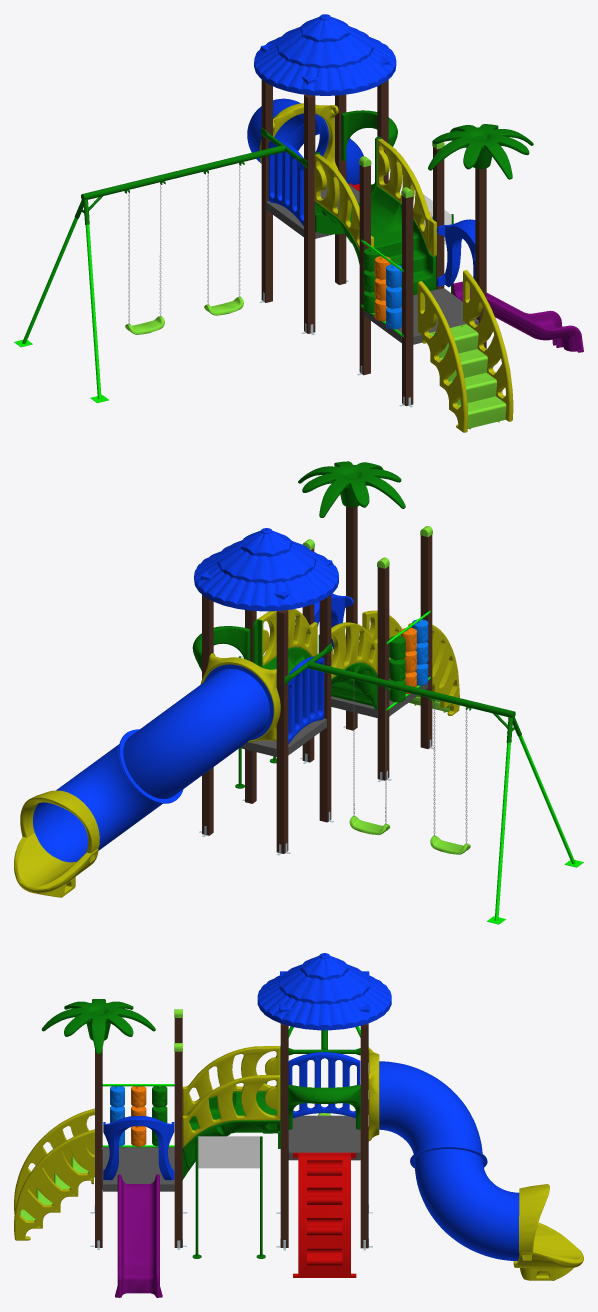
The picture shows the model from 3 angles, top to bottom: view 1: azimuth 30°, elevation 25°; view 2: azimuth 150°, elevation 25°; view 3: azimuth 270°, elevation 25°; orthographic projection. The views are drawn at different scales.
Parts seen in each view (by area): view 1: TOLDO M2, ACESSO M1, LATERAL M2, COQUEIRO M1, LATERAL M2.001, COLUNA MAD PLAST 9 X 9CM.013, JOGO DA VELHA, ESCORREGADOR M5, LATERAL M1.002, COLUNA MAD PLAST 9 X 9CM.018, TRAV BALANCO ACOP M4 PINT.001, LATERAL M1 (+23 smaller); view 2: DUTO TOBOGA M3 LADO B, TOLDO M2, DUTO TOBOGA M3 LADO A, COQUEIRO M1, PONTEIRA M2, COLUNA MAD PLAST 9 X 9CM.014, JOGO DA VELHA, COLUNA MAD PLAST 9 X 9CM.019, COLUNA MAD PLAST 9 X 9CM.013, TRAV BALANCO ACOP M4 PINT.001, FECHAMENTO M1.001, COLUNA MAD PLAST 9 X 9CM.018 (+17 smaller); view 3: DUTO TOBOGA M3 LADO A, TOLDO M2, ESCALADA M2, DUTO TOBOGA M3 LADO B, ESCORREGADOR M5, LATERAL M2.001, LATERAL M1.002, PLATAFORMA M1.004, COQUEIRO M1, PONTEIRA M2, LATERAL M1, JOGO DA VELHA (+15 smaller).
Boxes of the visible parts, <box> form: TOLDO M2: <box>254,14,396,95</box>; ACESSO M1: <box>315,186,436,294</box>; LATERAL M2: <box>417,281,467,432</box>; COQUEIRO M1: <box>428,124,533,179</box>; LATERAL M2.001: <box>463,270,513,421</box>; COLUNA MAD PLAST 9 X 9CM.013: <box>304,94,315,333</box>; JOGO DA VELHA: <box>361,239,403,337</box>; ESCORREGADOR M5: <box>452,281,583,352</box>; LATERAL M1.002: <box>377,138,436,256</box>; COLUNA MAD PLAST 9 X 9CM.018: <box>402,196,413,406</box>; TRAV BALANCO ACOP M4 PINT.001: <box>74,127,307,224</box>; LATERAL M1: <box>314,154,373,250</box>; DUTO TOBOGA M3 LADO B: <box>119,664,273,803</box>; TOLDO M2: <box>194,528,338,611</box>; DUTO TOBOGA M3 LADO A: <box>33,731,162,862</box>; COQUEIRO M1: <box>298,461,405,517</box>; PONTEIRA M2: <box>14,833,98,897</box>; COLUNA MAD PLAST 9 X 9CM.014: <box>276,610,288,853</box>; JOGO DA VELHA: <box>386,610,430,710</box>; COLUNA MAD PLAST 9 X 9CM.019: <box>377,566,389,780</box>; COLUNA MAD PLAST 9 X 9CM.013: <box>319,595,331,822</box>; TRAV BALANCO ACOP M4 PINT.001: <box>283,643,521,742</box>; FECHAMENTO M1.001: <box>288,656,324,743</box>; COLUNA MAD PLAST 9 X 9CM.018: <box>420,534,432,748</box>; DUTO TOBOGA M3 LADO A: <box>410,1147,519,1260</box>; TOLDO M2: <box>257,953,391,1030</box>; ESCALADA M2: <box>293,1152,356,1277</box>; DUTO TOBOGA M3 LADO B: <box>379,1061,486,1161</box>; ESCORREGADOR M5: <box>115,1174,162,1297</box>; LATERAL M2.001: <box>14,1129,94,1240</box>; LATERAL M1.002: <box>182,1075,280,1147</box>; PLATAFORMA M1.004: <box>288,1115,360,1160</box>; COQUEIRO M1: <box>41,999,155,1054</box>; PONTEIRA M2: <box>513,1222,583,1280</box>; LATERAL M1: <box>182,1046,280,1115</box>; JOGO DA VELHA: <box>102,1084,174,1147</box>.
Size of the model in its own units: 5.19 by 3.47 by 6.49.
Materials: 23 (3 with a texture image).
